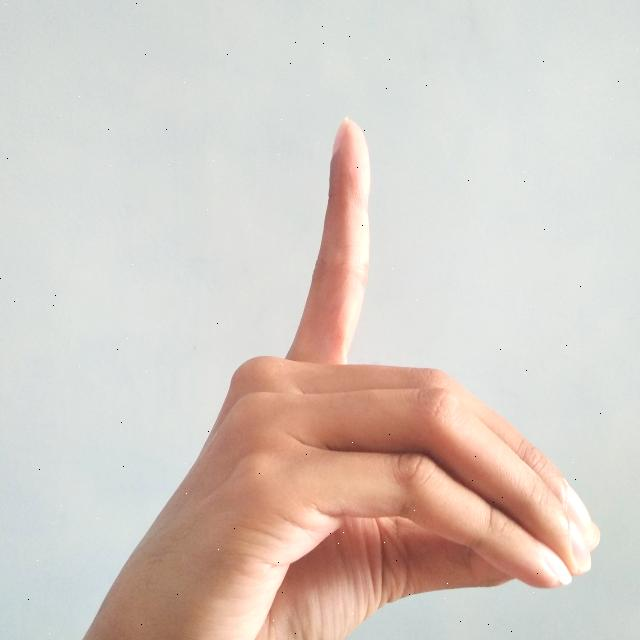D: (81, 113, 606, 640)
